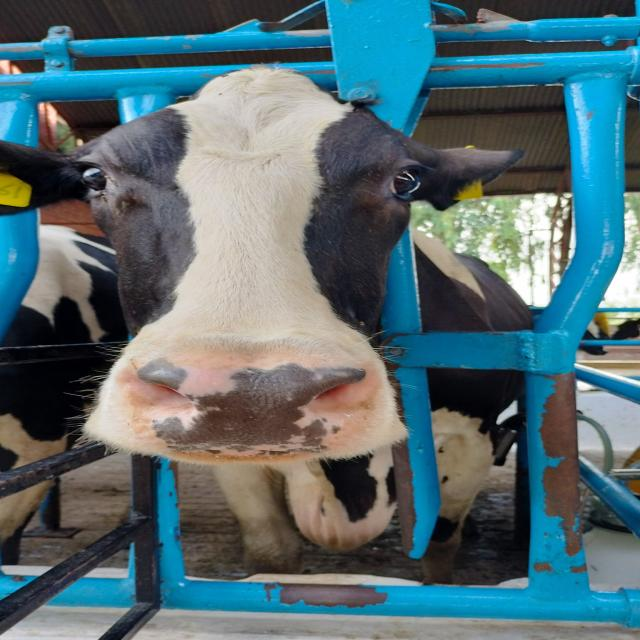muzzles: (106, 340, 382, 462)
